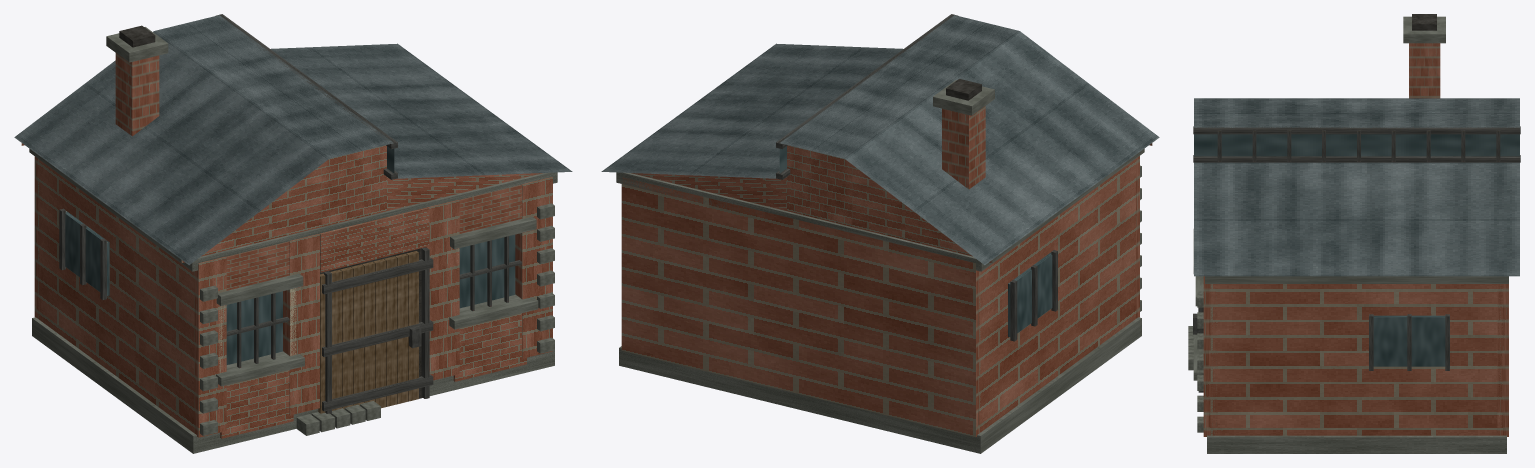
The model's file is trackside_workshop.gltf.
The picture shows the model from 3 angles, left to right: view 1: azimuth 30°, elevation 25°; view 2: azimuth 150°, elevation 25°; view 3: azimuth 270°, elevation 25°; orthographic projection. The views are drawn at different scales.
Visible parts, largest first — view 1: trackside_workshop; view 2: trackside_workshop; view 3: trackside_workshop.
Part boxes in pixels (x1,y1,x2,y2): trackside_workshop: [14, 14, 572, 453]; trackside_workshop: [601, 14, 1159, 453]; trackside_workshop: [1188, 14, 1520, 453].
Bounding box in the file's own units: 6.28 × 5.01 × 5.06.
Materials: 1 (1 with a texture image).
